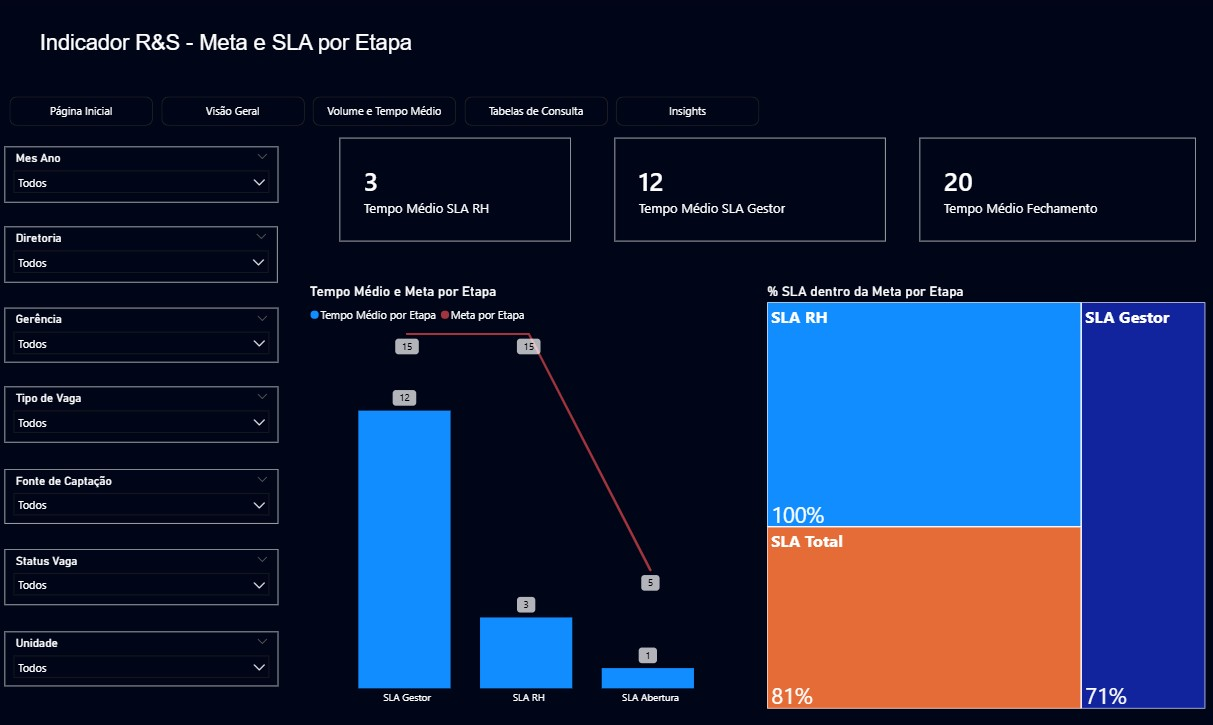

The page's visual inventory and layout, read from the dashboard file:
{"tool":"powerbi","page":{"name":"Meta e SLA por Etapa","canvas":[1500,900],"ordinal":2},"visuals":[{"type":"cardVisual","fields":{"Data":["Medidas.Tempo Médio SLA RH"]},"box":[419.9,170.9,283.7,127.3],"z":0},{"type":"cardVisual","fields":{"Data":["Medidas.Tempo Médio SLA Gestor"]},"box":[757.4,170.9,332.8,127.3],"z":1000},{"type":"cardVisual","fields":{"Data":["Medidas.Tempo Médio Fechamento"]},"box":[1131.6,170.9,339,127.3],"z":2000},{"type":"treemap","title":"% SLA dentro da Meta por Etapa","fields":{"Values":["Medidas.% SLA RH Dentro Meta","Medidas.% SLA Gestor Dentro Meta","Medidas.% SLA Total Dentro Meta"]},"box":[940.2,348.2,547.5,527.6],"z":3000},{"type":"lineClusteredColumnComboChart","title":"Tempo Médio e Meta por Etapa","fields":{"Category":["Etapas.Etapa"],"Y":["Etapas.Tempo Médio por Etapa"],"Y2":["Etapas.Meta por Etapa"]},"box":[378.8,348.2,547.5,527.6],"z":4000},{"type":"slicer","fields":{"Values":["dDiretoria.DIRETORIA "]},"box":[9.9,278.5,334.8,68.6],"z":5000},{"type":"slicer","fields":{"Values":["dGerencia.GERENCIA "]},"box":[9.2,378.8,335.9,67.5],"z":6000},{"type":"slicer","fields":{"Values":["dFonte.FONTE"]},"box":[9.2,576.7,335.9,67.5],"z":7000},{"type":"slicer","fields":{"Values":["dTipo.TIPO"]},"box":[9.2,475.5,335.9,69],"z":8000},{"type":"slicer","fields":{"Values":["dStatus.STATUS DA VAGA"]},"box":[9.2,674.9,335.9,69],"z":9000},{"type":"slicer","fields":{"Values":["dUnidade.UNIDADE"]},"box":[9.2,776.1,335.9,67.5],"z":10000},{"type":"slicer","fields":{"Values":["fVagas.Mes Ano"]},"box":[9.2,181,335.9,69],"z":11000},{"type":"image","box":[976.2,21,498.6,98.8],"z":12000},{"type":"textbox","box":[47,34.2,527.9,70.5],"z":13000},{"type":"pageNavigator","box":[15.3,119.6,924.9,36.8],"z":14000}]}

Visuals, with their boxes in screenshot pixels (x1, y1, x2, y2), scaled from the page's 1500x900 canvas onto the 1213x725 screenshot:
cardVisual - Medidas.Tempo Médio SLA RH: <region>340, 138, 569, 240</region>
cardVisual - Medidas.Tempo Médio SLA Gestor: <region>612, 138, 882, 240</region>
cardVisual - Medidas.Tempo Médio Fechamento: <region>915, 138, 1189, 240</region>
"% SLA dentro da Meta por Etapa" treemap: <region>760, 280, 1203, 706</region>
"Tempo Médio e Meta por Etapa" lineClusteredColumnComboChart: <region>306, 280, 749, 706</region>
slicer - dDiretoria.DIRETORIA : <region>8, 224, 279, 280</region>
slicer - dGerencia.GERENCIA : <region>7, 305, 279, 360</region>
slicer - dFonte.FONTE: <region>7, 465, 279, 519</region>
slicer - dTipo.TIPO: <region>7, 383, 279, 439</region>
slicer - dStatus.STATUS DA VAGA: <region>7, 544, 279, 599</region>
slicer - dUnidade.UNIDADE: <region>7, 625, 279, 680</region>
slicer - fVagas.Mes Ano: <region>7, 146, 279, 201</region>
image: <region>789, 17, 1193, 97</region>
textbox: <region>38, 28, 465, 84</region>
pageNavigator: <region>12, 96, 760, 126</region>
